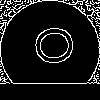O: (25, 25, 75, 67)
